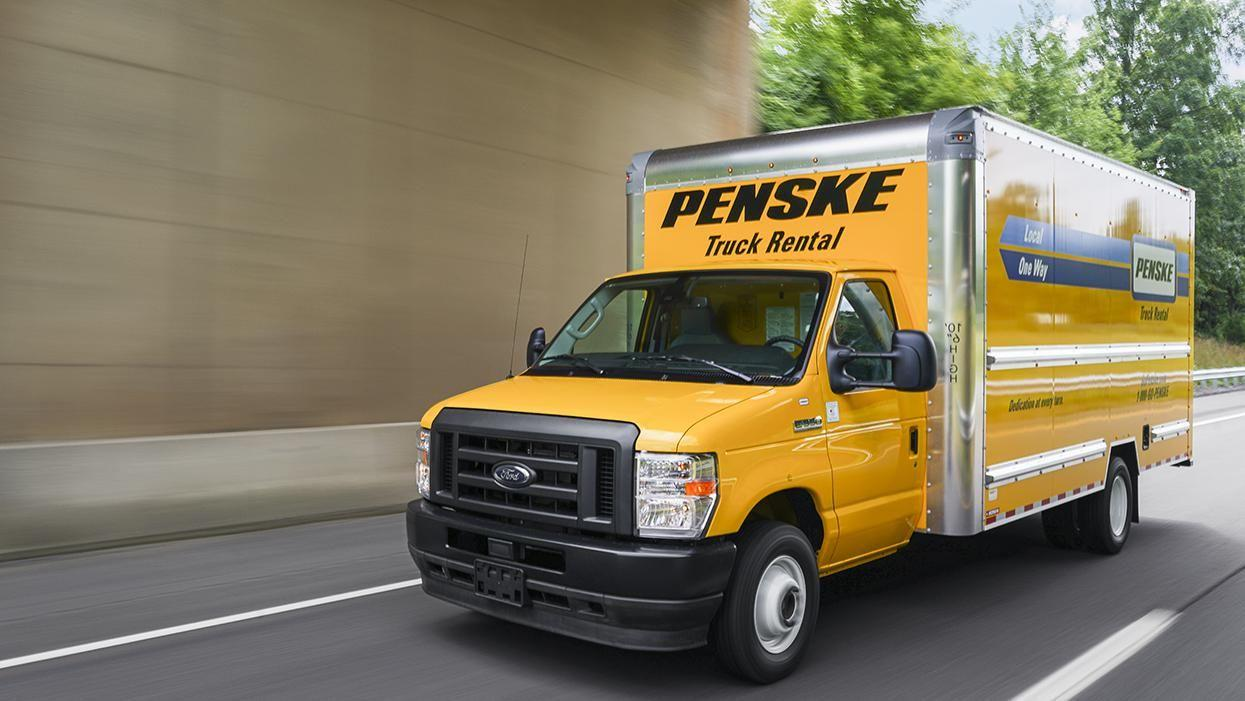truck: (408, 104, 1197, 686)
